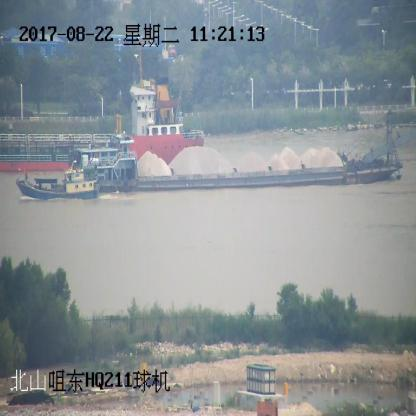Fishing Boat: (16, 161, 100, 202)
